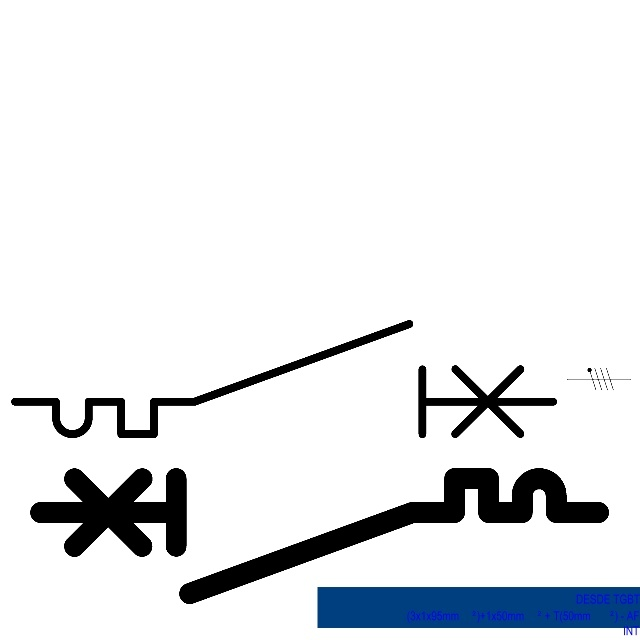interruptor_termomagnetico: (26, 464, 613, 608), (1, 310, 567, 448)
